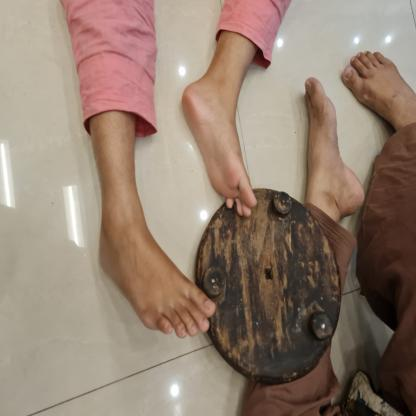leg: (78, 112, 222, 342), (177, 32, 264, 220), (300, 73, 369, 221), (338, 42, 416, 132)
